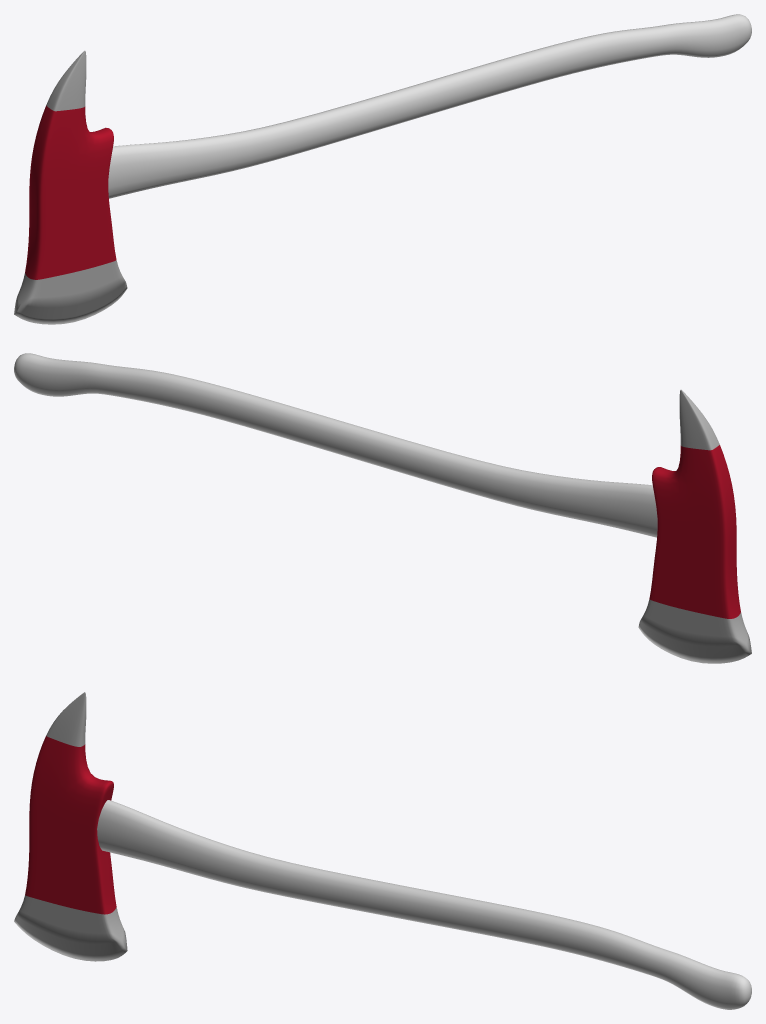
The model's file is firefighting axei.fbx.
The picture shows the model from 3 angles, top to bottom: view 1: azimuth 30°, elevation 25°; view 2: azimuth 150°, elevation 25°; view 3: azimuth 330°, elevation 25°; orthographic projection.
Visible parts, largest first — view 1: Plane, Plane.001; view 2: Plane, Plane.001; view 3: Plane, Plane.001.
Boxes of the visible parts, left/top/right/bottom form: Plane: left=108, top=14, right=751, bottom=198; Plane.001: left=14, top=50, right=127, bottom=324; Plane: left=14, top=353, right=657, bottom=537; Plane.001: left=638, top=389, right=751, bottom=663; Plane: left=97, top=800, right=751, bottom=1009; Plane.001: left=14, top=692, right=127, bottom=961.
Size of the model in its own units: 488 by 170 by 14.28.
